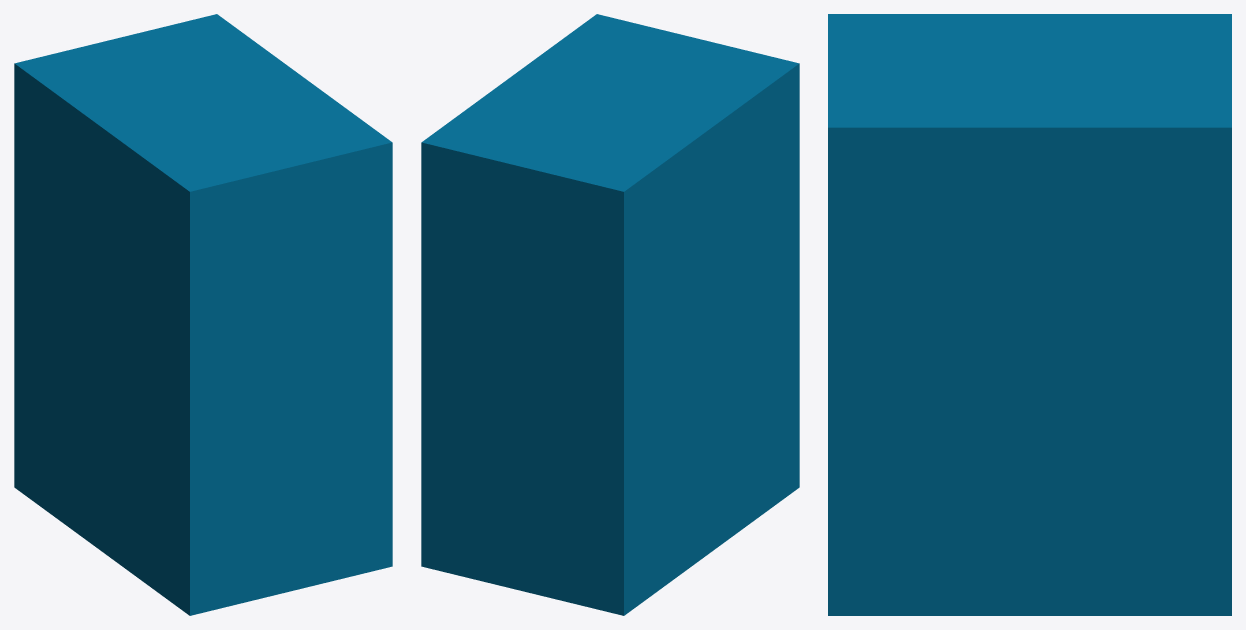
The model's file is Char18-Torso.gltf.
3 views of the same model, side by side, from view 1: azimuth 30°, elevation 25°; view 2: azimuth 150°, elevation 25°; view 3: azimuth 270°, elevation 25° (orthographic). The views are drawn at different scales.
Bounding box in the file's own units: 4 × 8 × 6.
